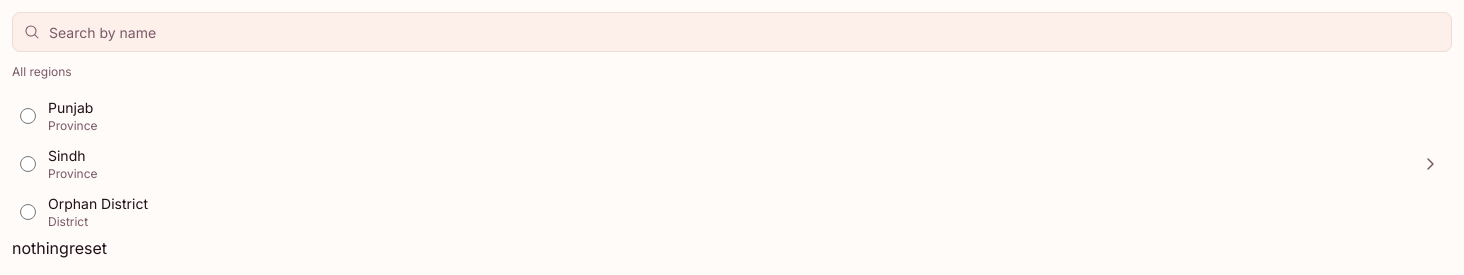
Test: RegionPicker › chooses a region at any level — a whole province, or a tehsil — and only one at a time
Click the radio button labelled "Sindh Province". click: (28, 164)
box: [20, 156, 36, 172]
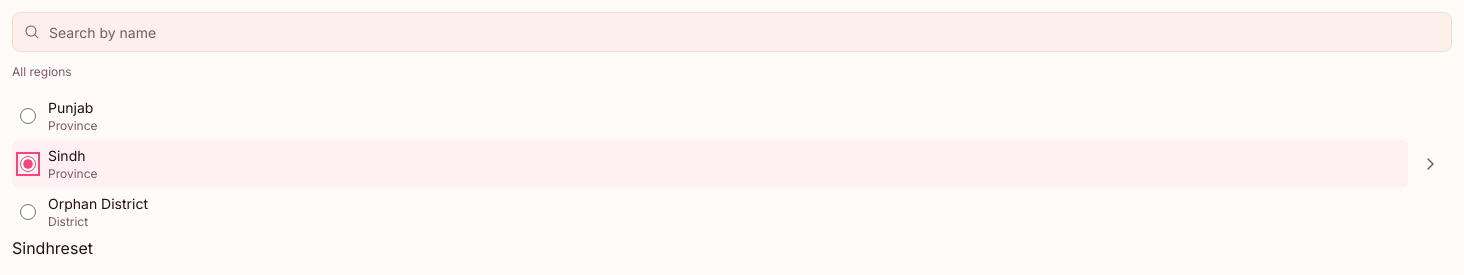
Check: the text with test id "selected" reads "Sindh", box [12, 238, 55, 258]
Click the button named "Show the 2 sub-regions of Sindh". click: (1430, 164)
box: [1408, 142, 1452, 186]
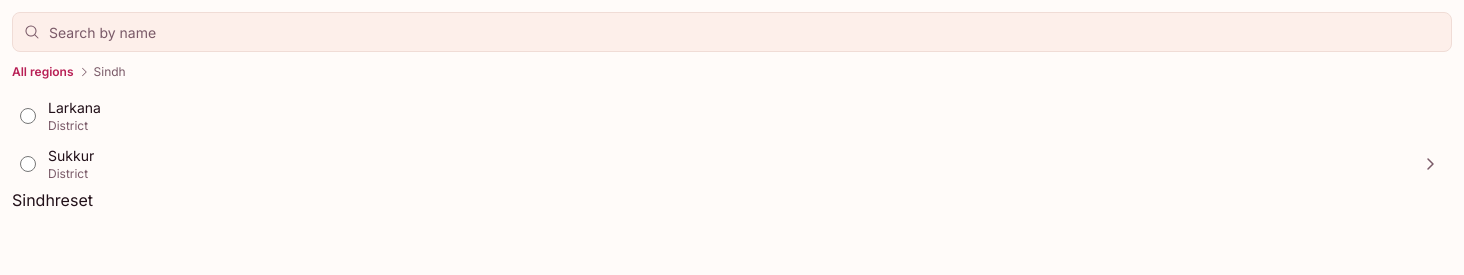
Click the button named "Show the 1 sub-region of Sukkur". click: (1430, 164)
box: [1408, 142, 1452, 186]
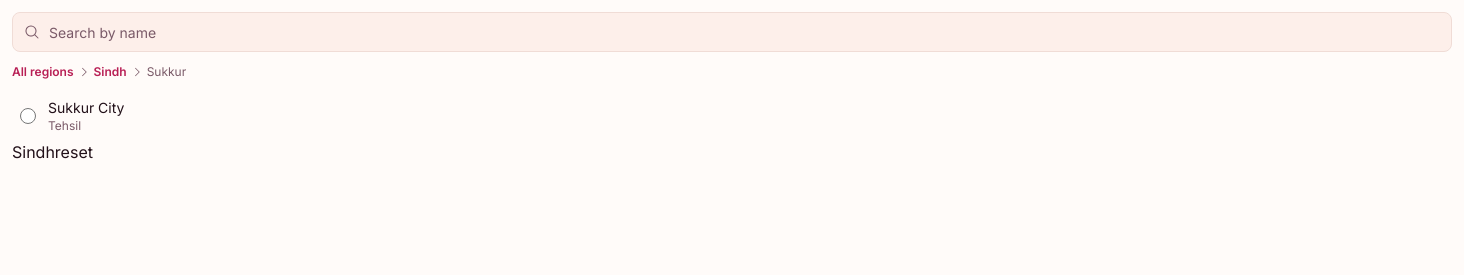
Click the radio button labelled "Sukkur City Tehsil". click: (28, 116)
box: [20, 108, 36, 124]
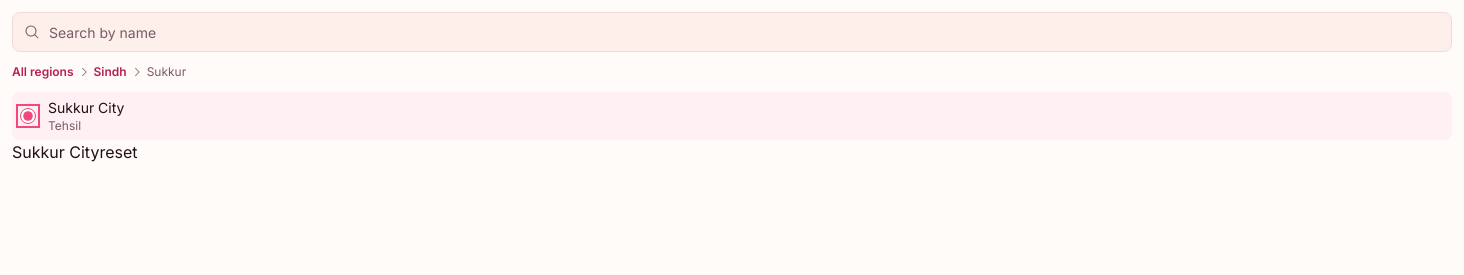
Check: the text with test id "selected" reads "Sukkur City", box [12, 142, 99, 162]
